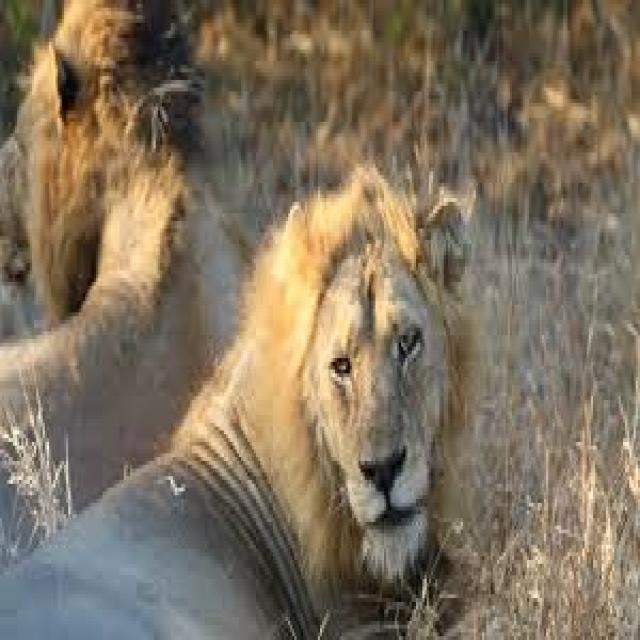Lion: (0, 167, 476, 636)
